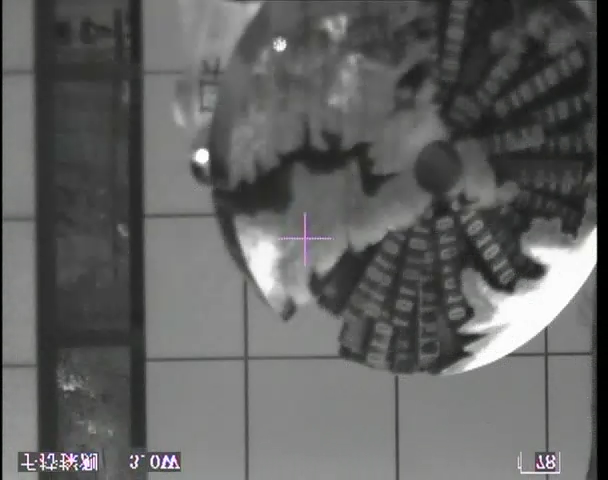my: (193, 147, 209, 164)
